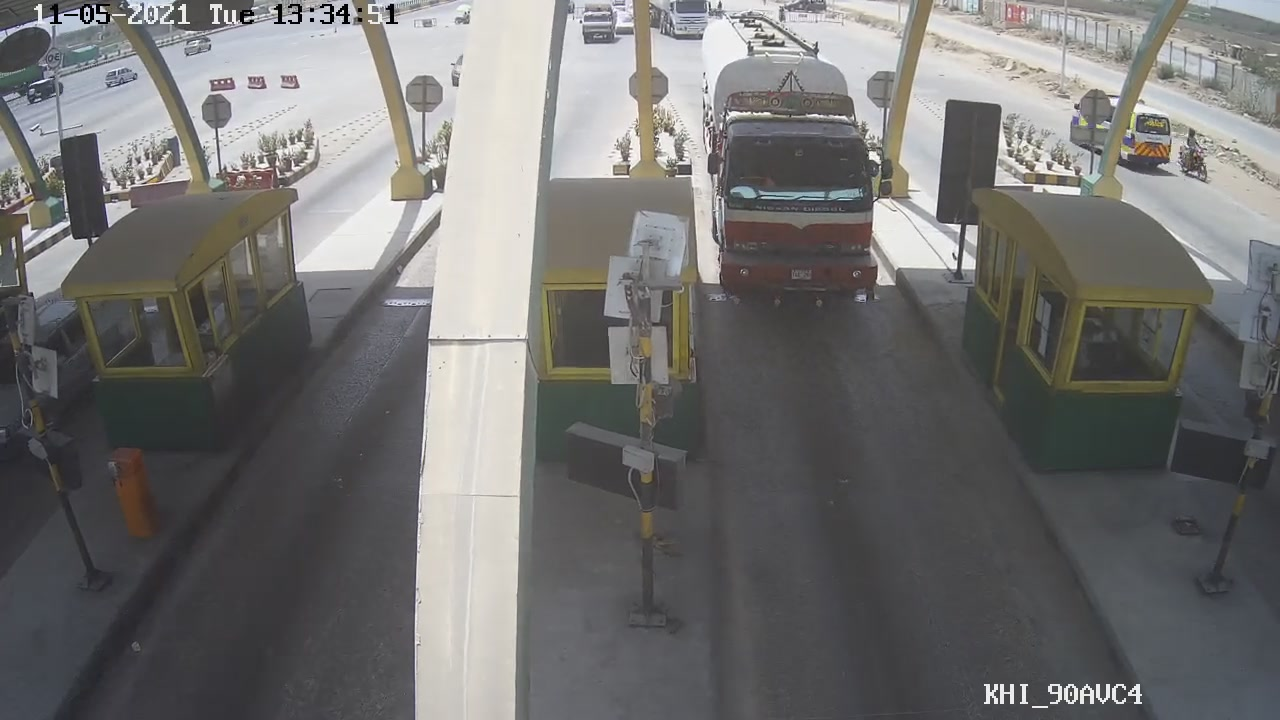F6: (706, 31, 892, 313)
